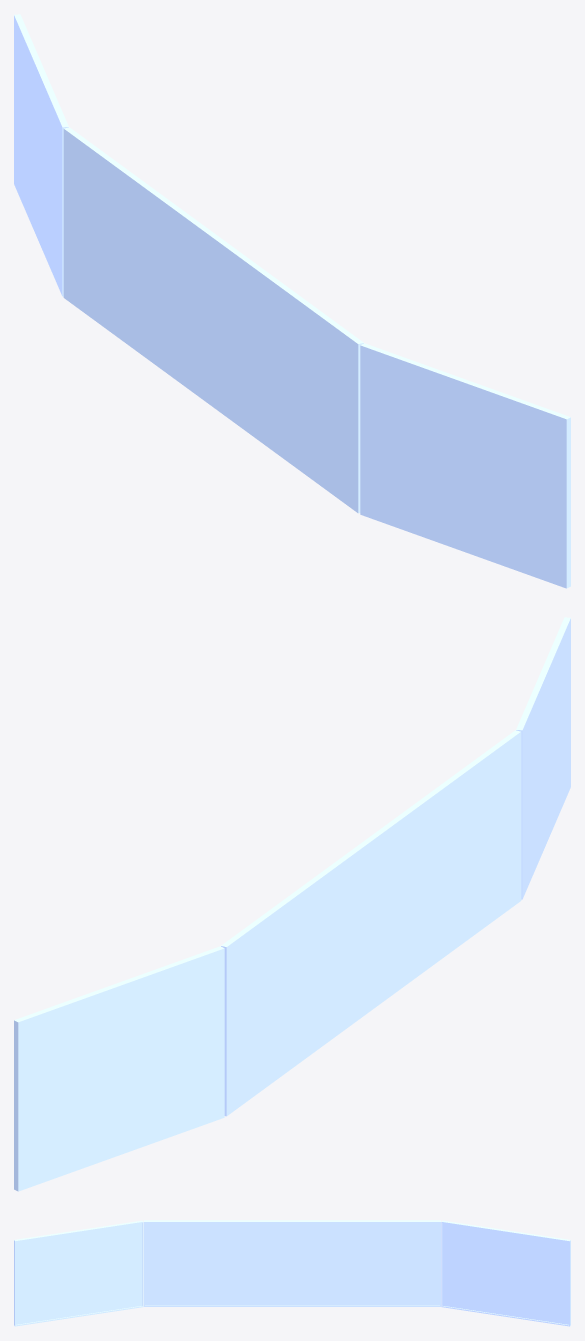
Rendered from StageScreen.fbx.
3 views of the same model, one above another, from view 1: azimuth 30°, elevation 25°; view 2: azimuth 150°, elevation 25°; view 3: azimuth 270°, elevation 25° (orthographic). The views are drawn at different scales.
Parts seen in each view (by area): view 1: Cube.001; view 2: Cube.001; view 3: Cube.001.
Boxes of the visible parts, x1,y1,x2,y2 form: Cube.001: (14, 14, 570, 588); Cube.001: (14, 617, 570, 1191); Cube.001: (14, 1220, 570, 1326).
Bounding box in the file's own units: 1.65 × 18.59 × 3.14.
